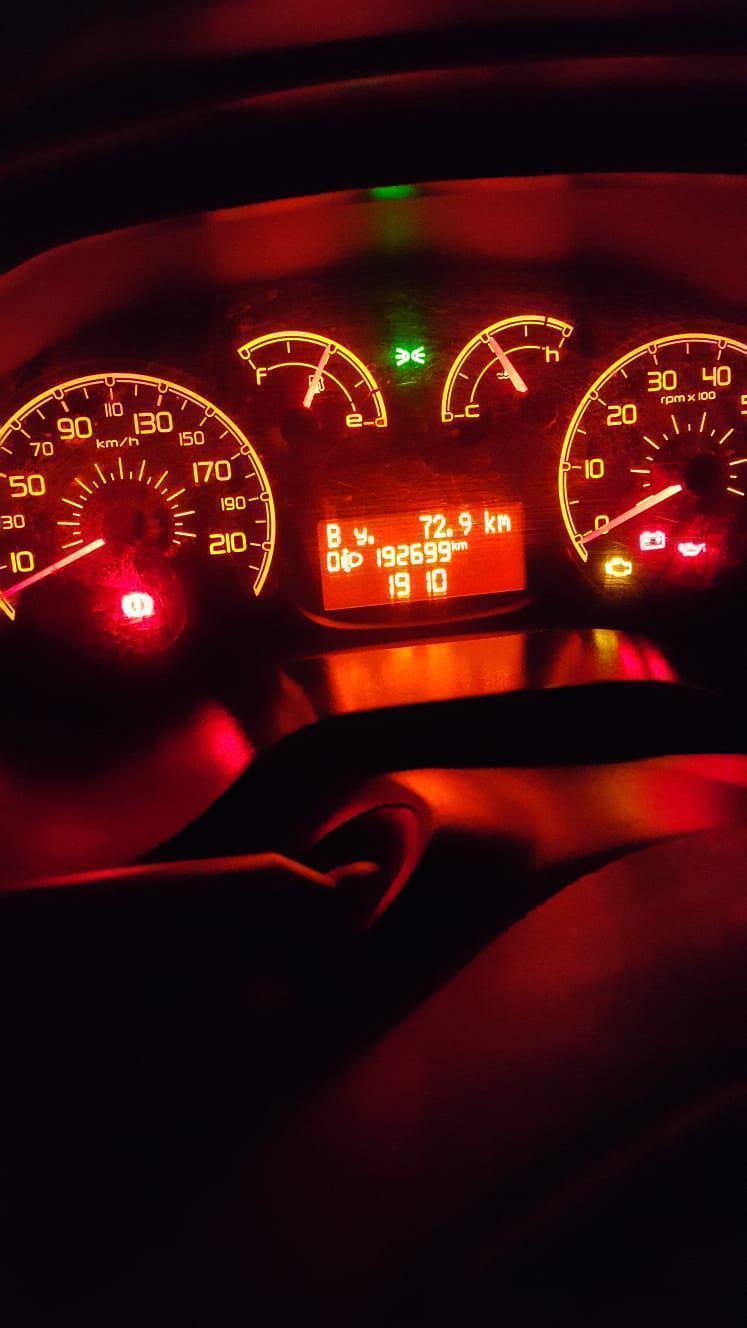,: (446, 526, 454, 538), (367, 534, 376, 544)
0: (431, 566, 449, 593), (326, 551, 340, 574)
1: (387, 572, 394, 599), (425, 569, 430, 597), (375, 545, 381, 568)
2: (432, 512, 446, 539), (396, 543, 409, 565)
6: (409, 542, 423, 565)
7: (418, 514, 432, 539)
9: (457, 511, 473, 536), (396, 572, 410, 597), (381, 544, 395, 568), (437, 539, 451, 562), (423, 541, 437, 563)
X: (325, 522, 342, 549), (482, 507, 497, 534), (496, 512, 512, 533), (353, 525, 367, 546), (458, 540, 469, 551), (451, 539, 457, 551)
odometer: (313, 498, 538, 613)
